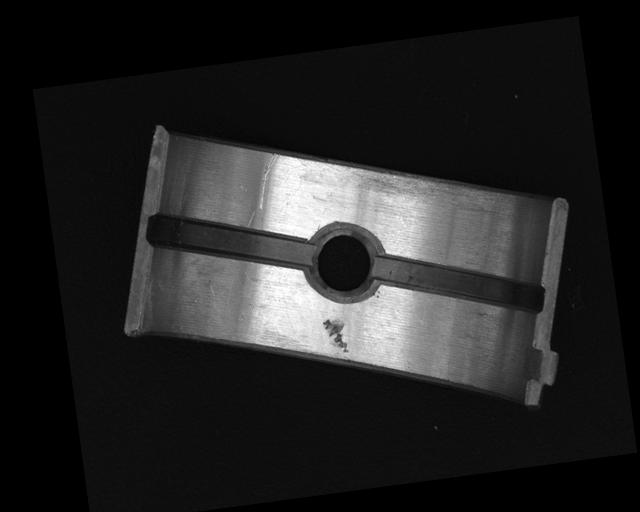bruise: (322, 315, 350, 357)
gap: (372, 233, 543, 334), (144, 195, 315, 286)
hole: (299, 221, 387, 304)
nick: (253, 151, 287, 209)
scratch: (295, 135, 510, 244)
